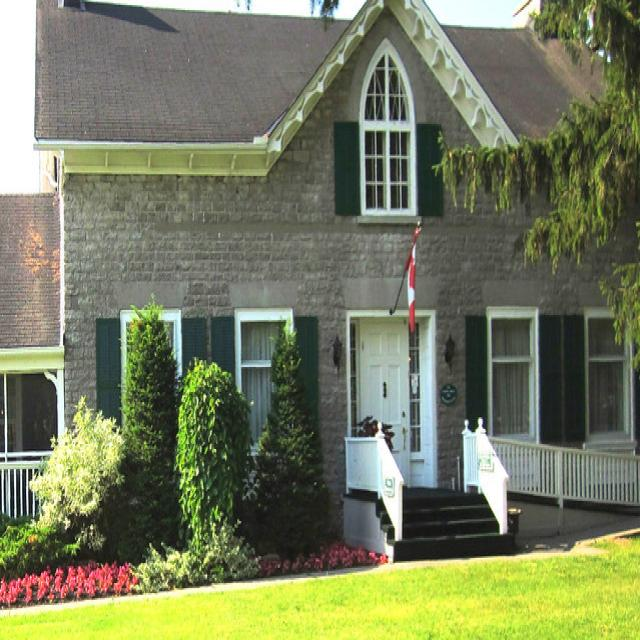building: (31, 0, 636, 590)
